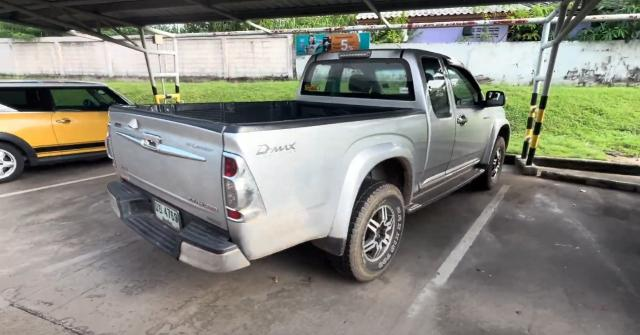pickup-truck: (105, 50, 510, 283)
